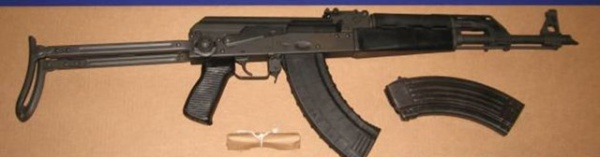ak47: (18, 9, 578, 155)
